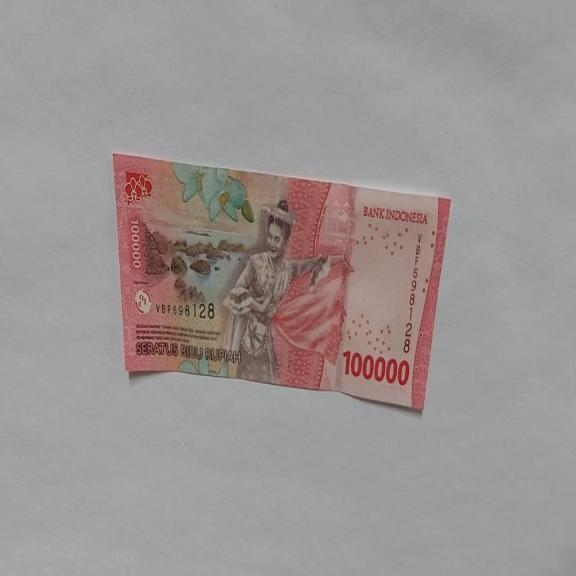Kertas: (112, 151, 452, 414), (342, 348, 410, 387)
